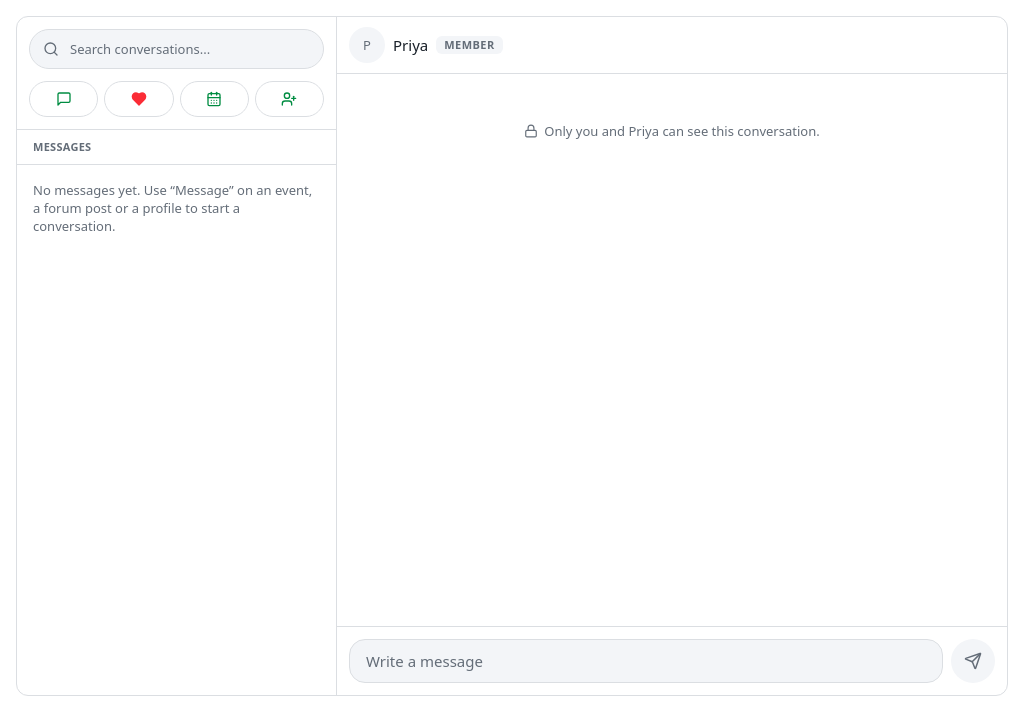
Test case: sending a message › lets a failed message be removed
In the text box named "Message Priya": (646, 661) 349,639 -> 943,683, type "Oops"
Then press Enter
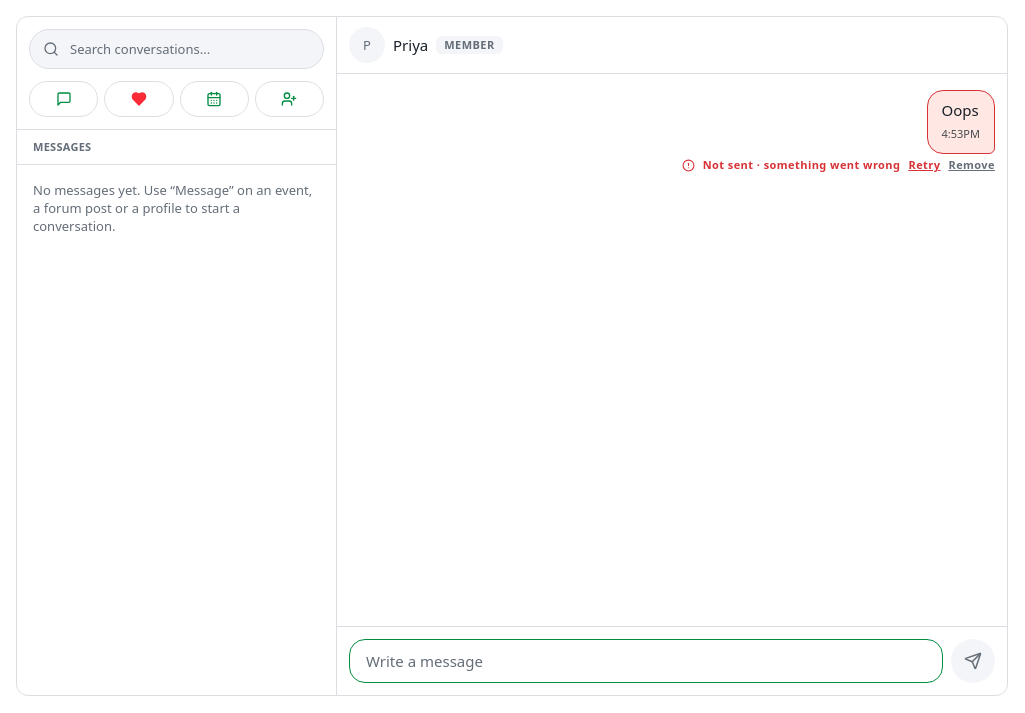
Click the button "Remove": (972, 165) 948,158 -> 995,172
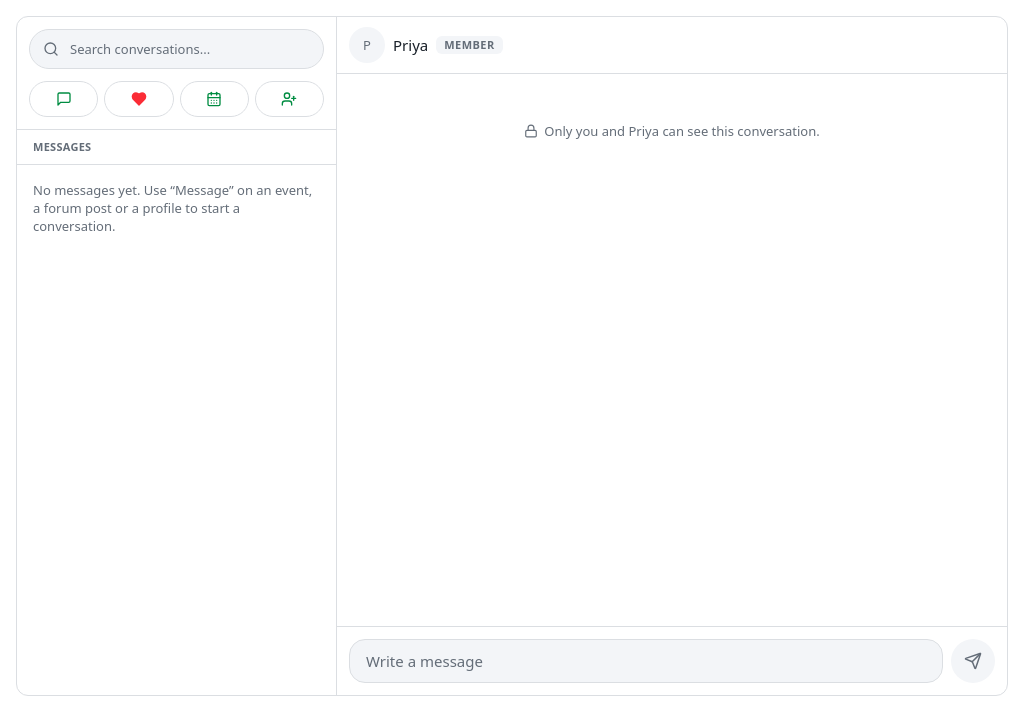
expect the text "Oops" is gone: met
